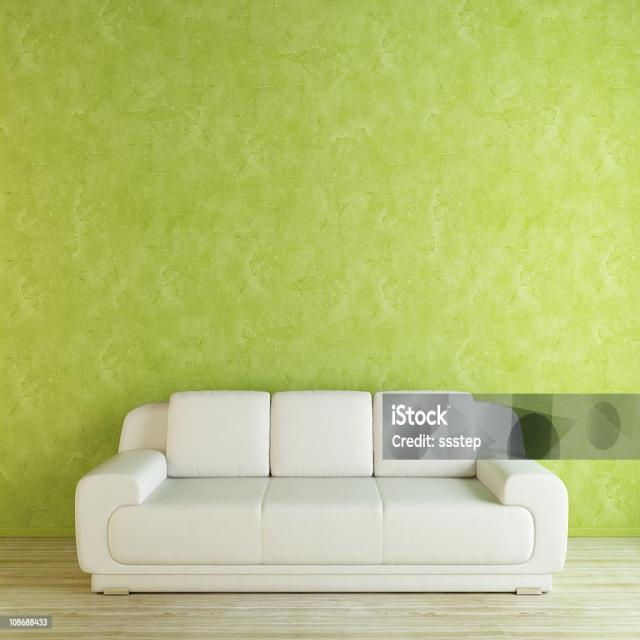back_cushion: (167, 391, 482, 477), (463, 401, 524, 456)
base: (92, 566, 551, 592)
left_arm: (477, 460, 568, 573)
right_arm: (76, 449, 166, 572)
seat_cushion: (105, 477, 537, 568)
stallion-sofa: (76, 392, 568, 591)
